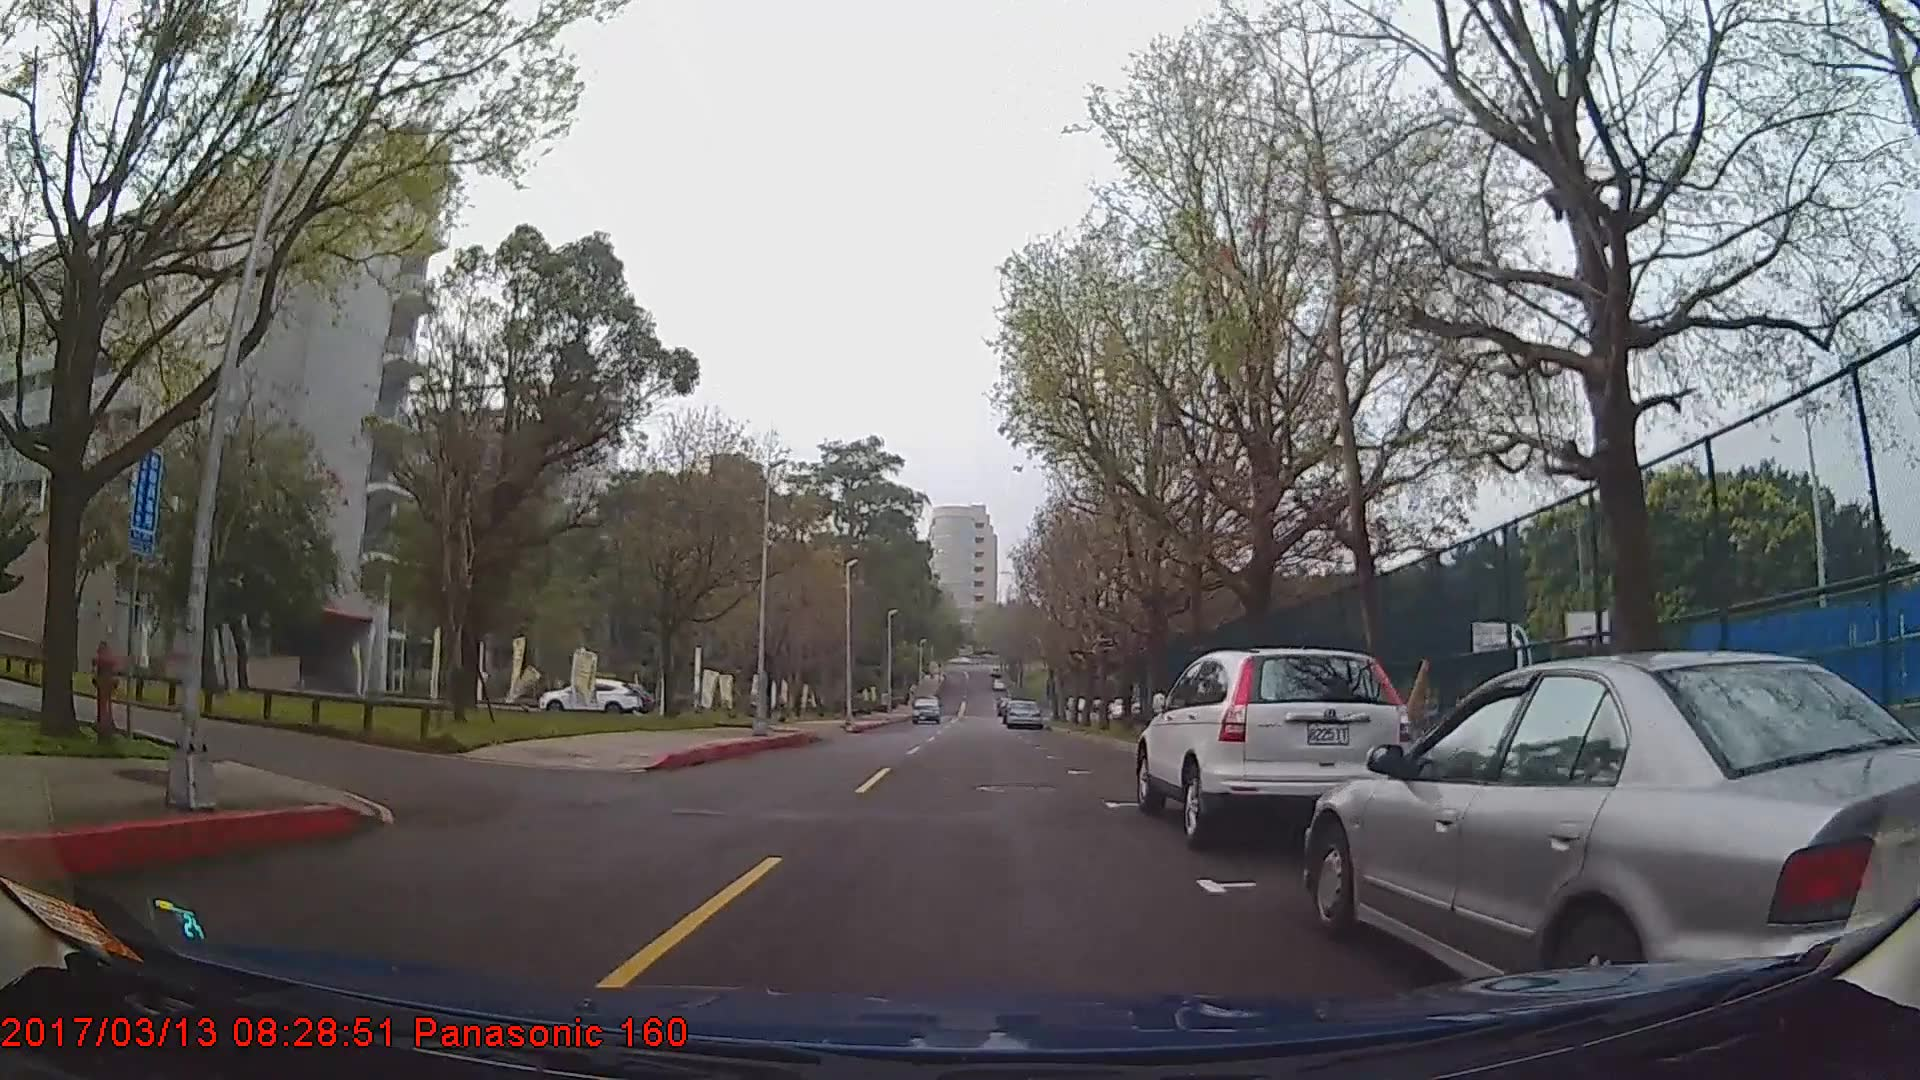vehicle: (1304, 646, 1920, 1021), (1135, 649, 1415, 851), (537, 676, 644, 715), (1004, 698, 1040, 729), (909, 694, 942, 723)
